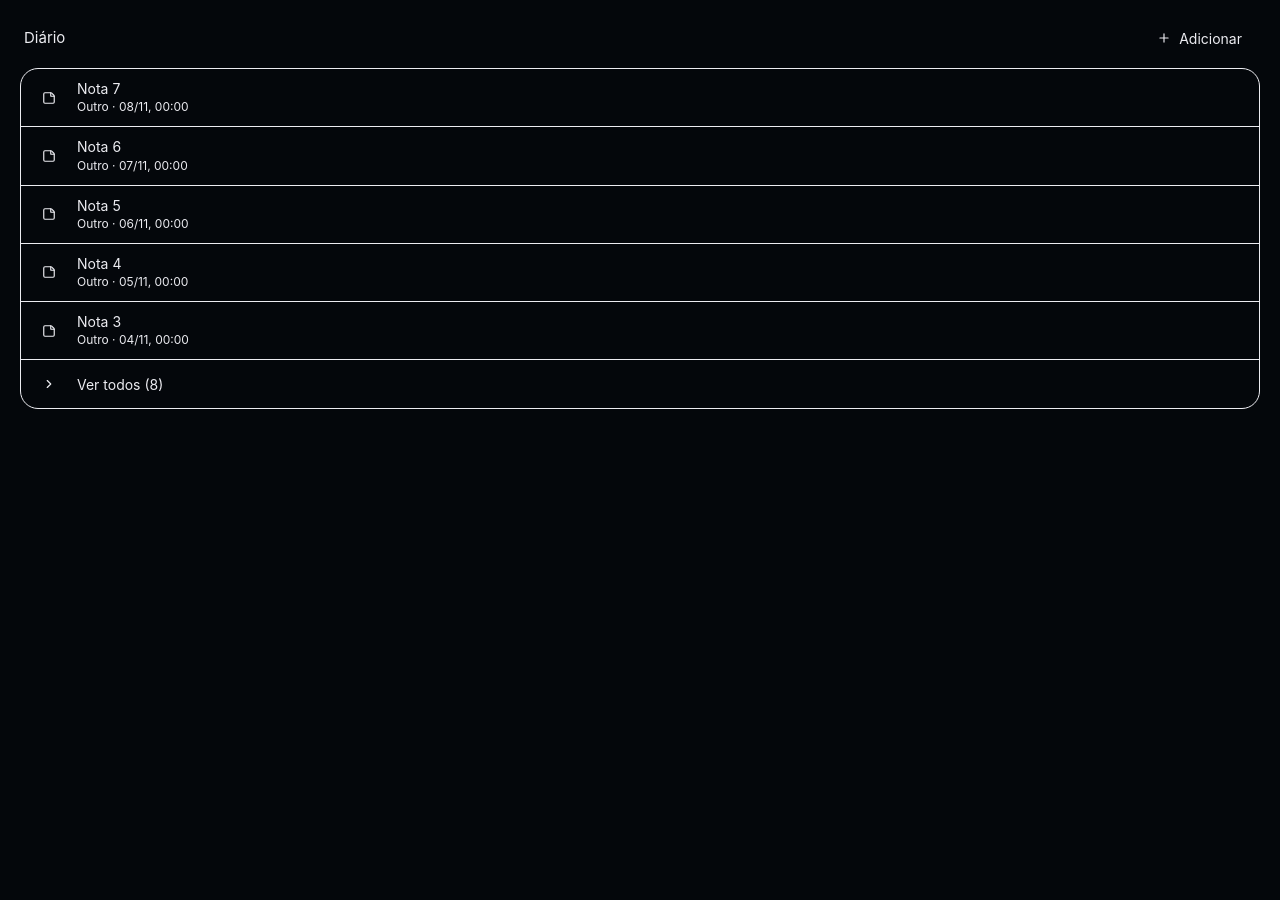
3. Charts, Forecasting, Advisor, Profile, Wizard, History & Details Edge Cases › Diario mostra os 5 mais recentes primeiro e "Ver todos" abre o restante
The width and height of the screenshot is (1280, 900).
Click the button "Ver todos (8)".
click(113, 384)  # box [21,360,1259,408]
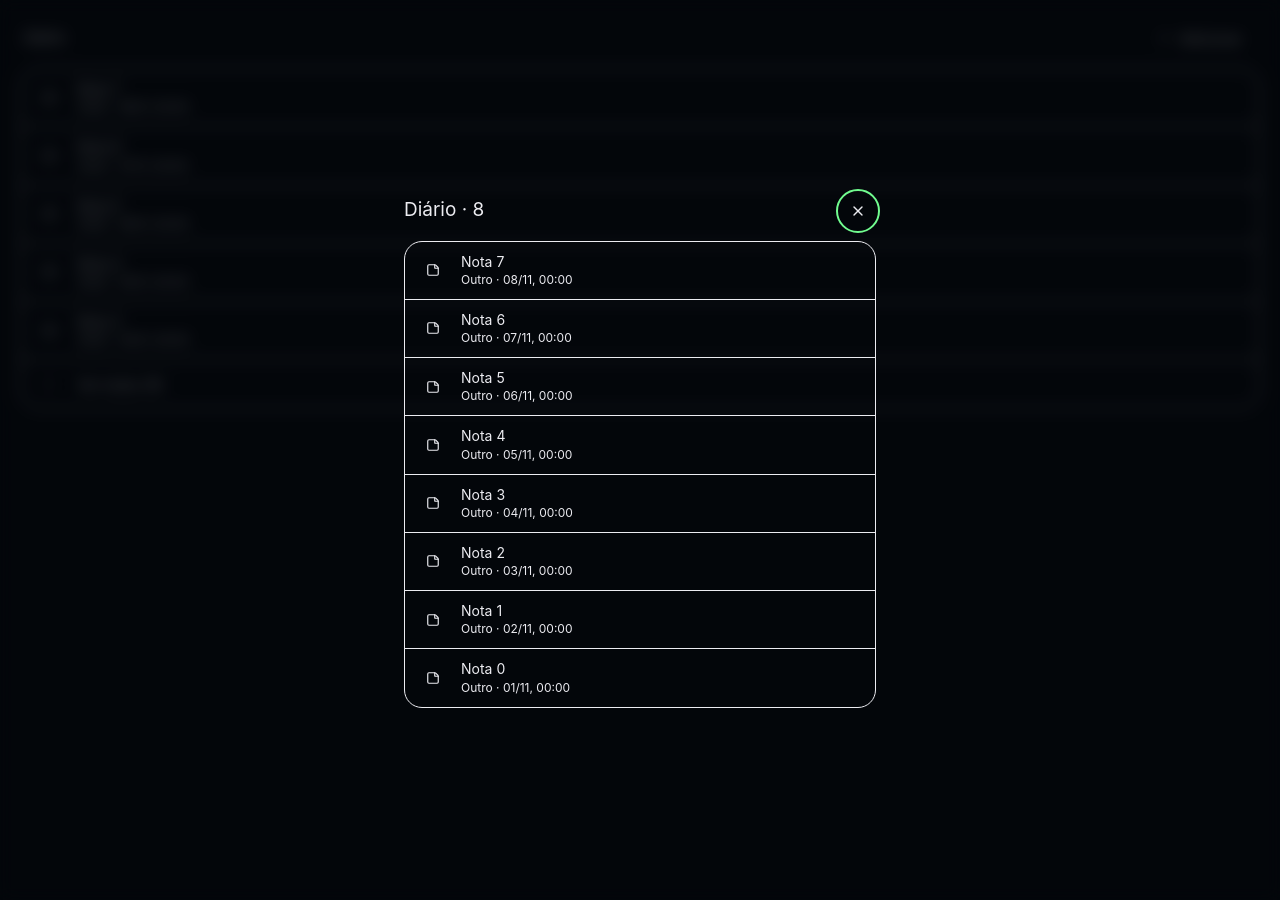
Expected: the text "Nota 0" is shown, [461,660,505,677]
Expected: the dialog is shown
